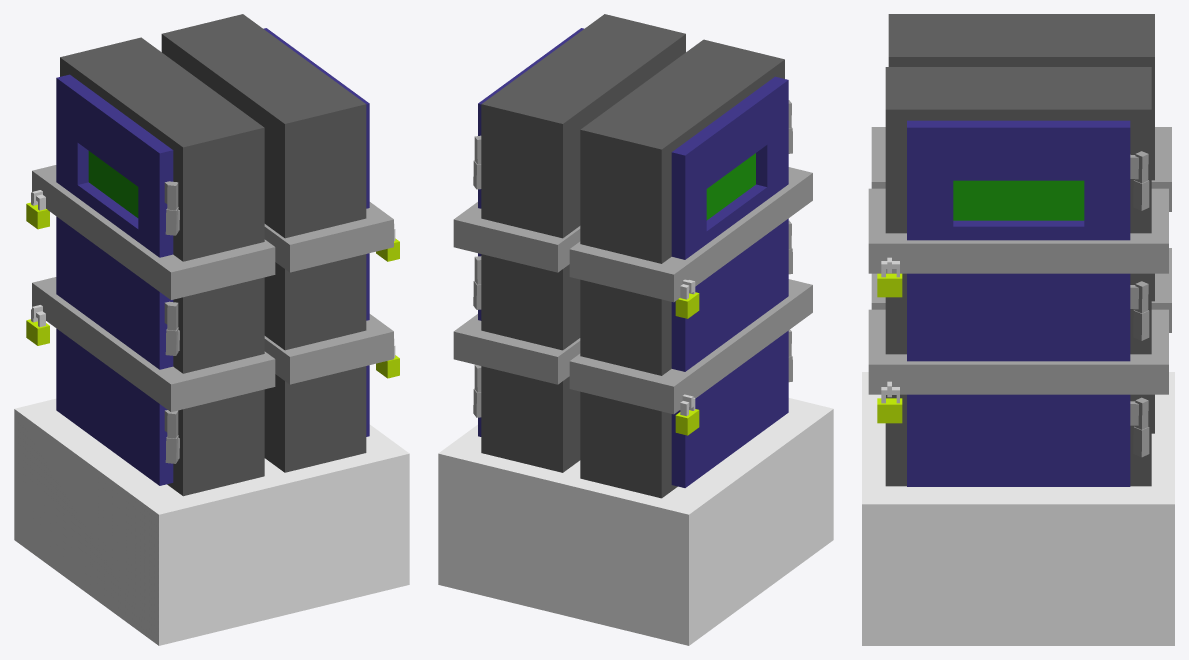
The model's file is UNBREAKABLE.glb.
3 views of the same model, side by side, from view 1: azimuth 30°, elevation 25°; view 2: azimuth 150°, elevation 25°; view 3: azimuth 270°, elevation 25° (orthographic). The views are drawn at different scales.
Parts seen in each view (by area): view 1: Cube; view 2: Cube; view 3: Cube.
Part boxes in pixels (x1,y1,x2,y2): Cube: (14, 14, 409, 645); Cube: (438, 14, 833, 645); Cube: (862, 14, 1174, 645).
Size of the model in its own units: 2 by 3.66 by 2.
2 materials, 1 textured.
